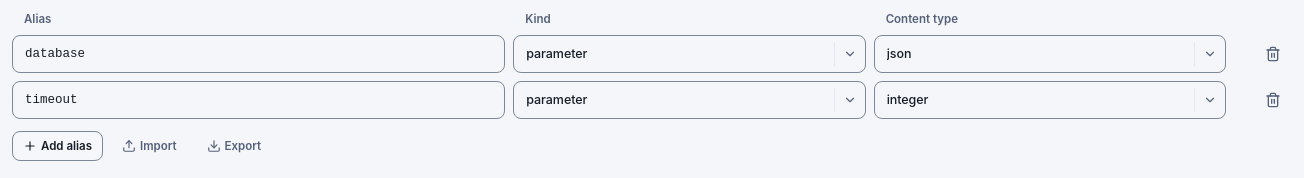
ContractEditor › names the columns and keeps row identity when an earlier row is removed
The image size is (1304, 178).
Expected: the element with class "contract-editor-head" is shown, [24, 12, 958, 26]
Expected: the element with class "contract-editor-head" shows "Alias", [24, 12, 51, 26]
Click the button named "Remove database" at (1273,54), box [1254, 35, 1292, 73]
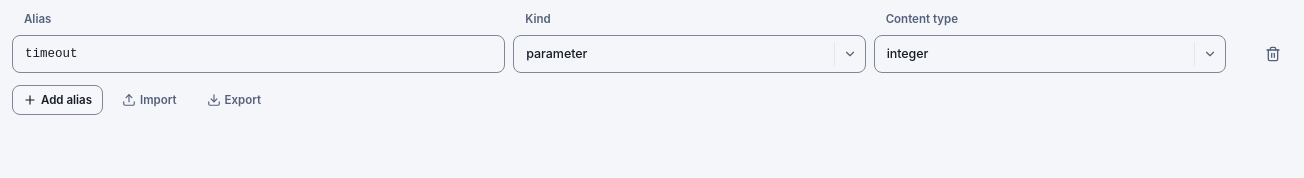
Expected: the field named "Alias 1" holds "timeout", [12, 35, 505, 73]
Now the number of list items is 1, box [12, 35, 1292, 73]
